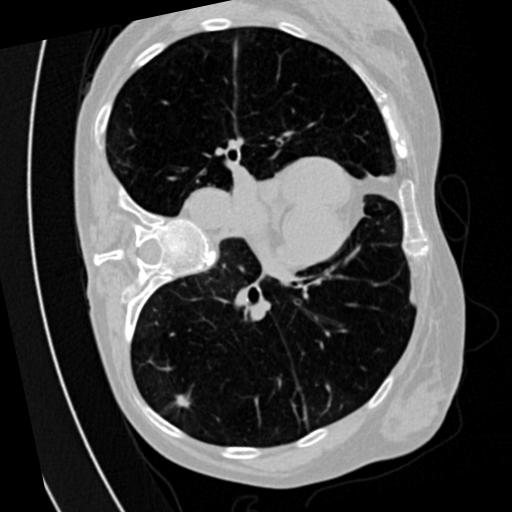nodule: (173, 392, 196, 415)
